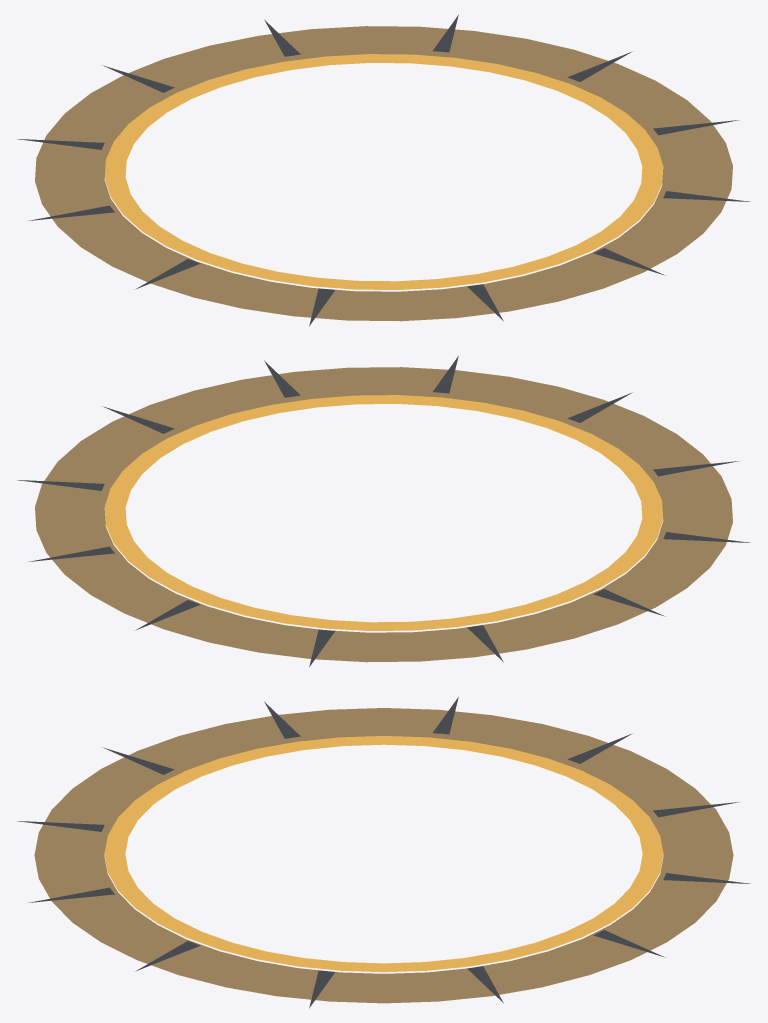
The model's file is snare_burst.glb.
3 views of the same model, one above another, from view 1: azimuth 30°, elevation 25°; view 2: azimuth 150°, elevation 25°; view 3: azimuth 270°, elevation 25° (orthographic).
Visible parts, largest first — view 1: snare_burst; view 2: snare_burst; view 3: snare_burst.
Boxes of the visible parts, box(x1,y1,x2,y2) form: snare_burst: box(17, 14, 750, 326); snare_burst: box(17, 355, 750, 667); snare_burst: box(17, 696, 750, 1008).
Bounding box in the file's own units: 2.12 × 0.01 × 2.12.
1 material, 1 textured.
